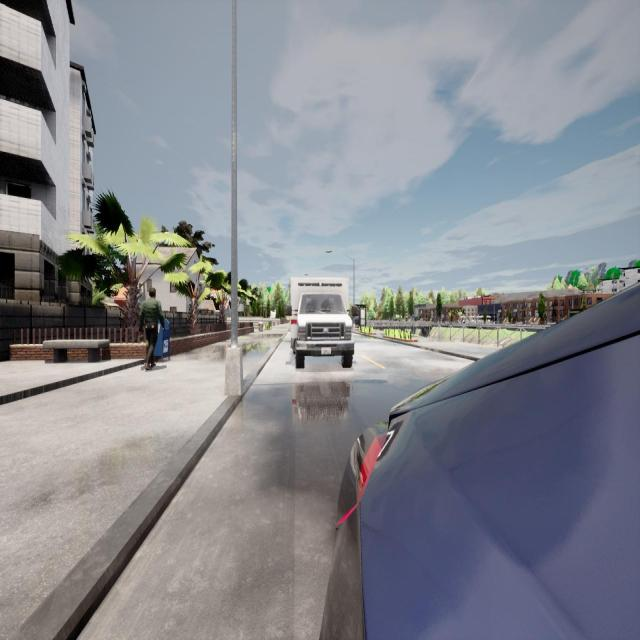Pedestrian: (138, 287, 166, 370)
Vehicle: (320, 284, 640, 638), (291, 275, 358, 372)
